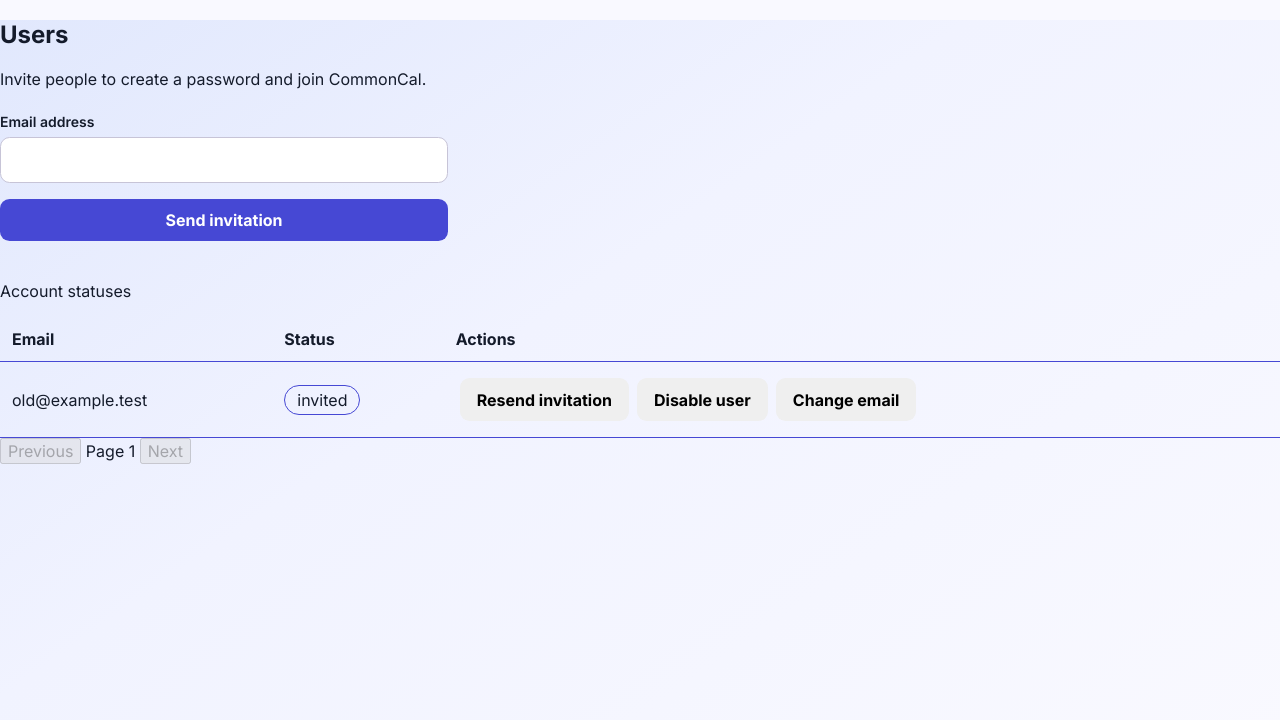
Test case: refreshes the changed invited address and offers resend after delivery failure
Click the button "Change email".
click(846, 400)  # box [776,378,916,421]
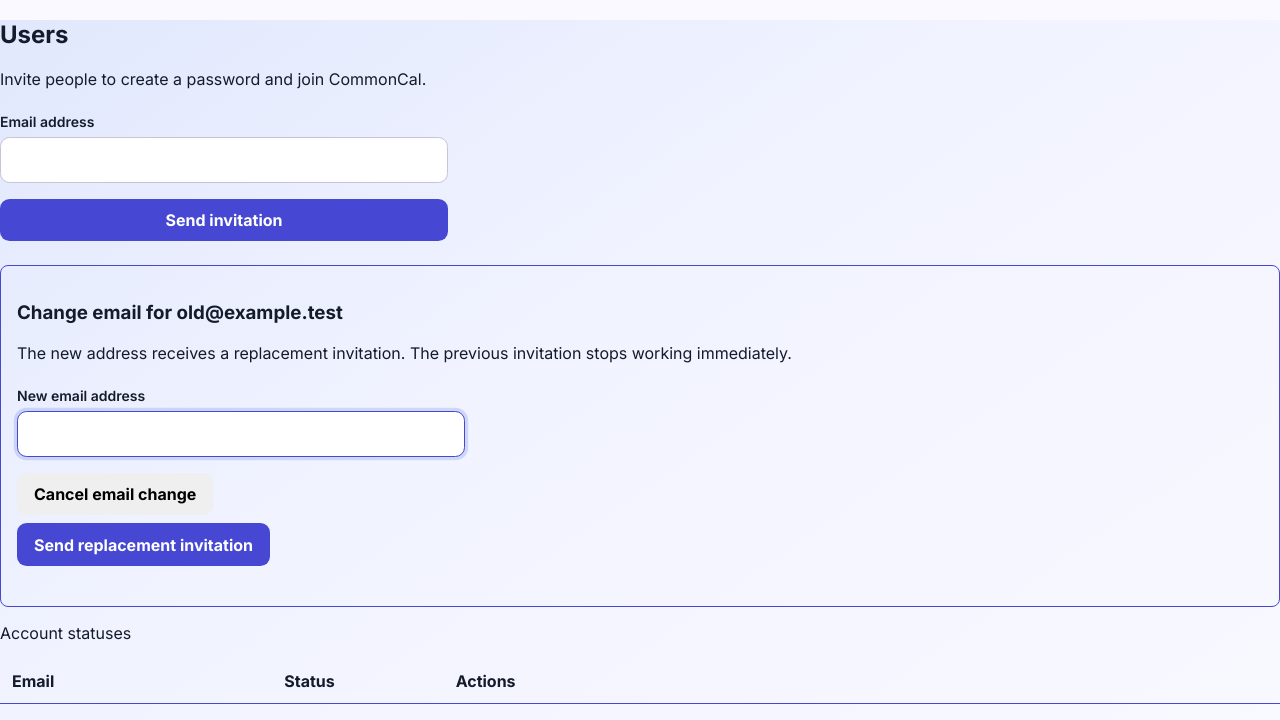
Type "new@example.test" into the field labelled "New email address".
click(241, 434); type("new@example.test")  # box [17,411,465,457]
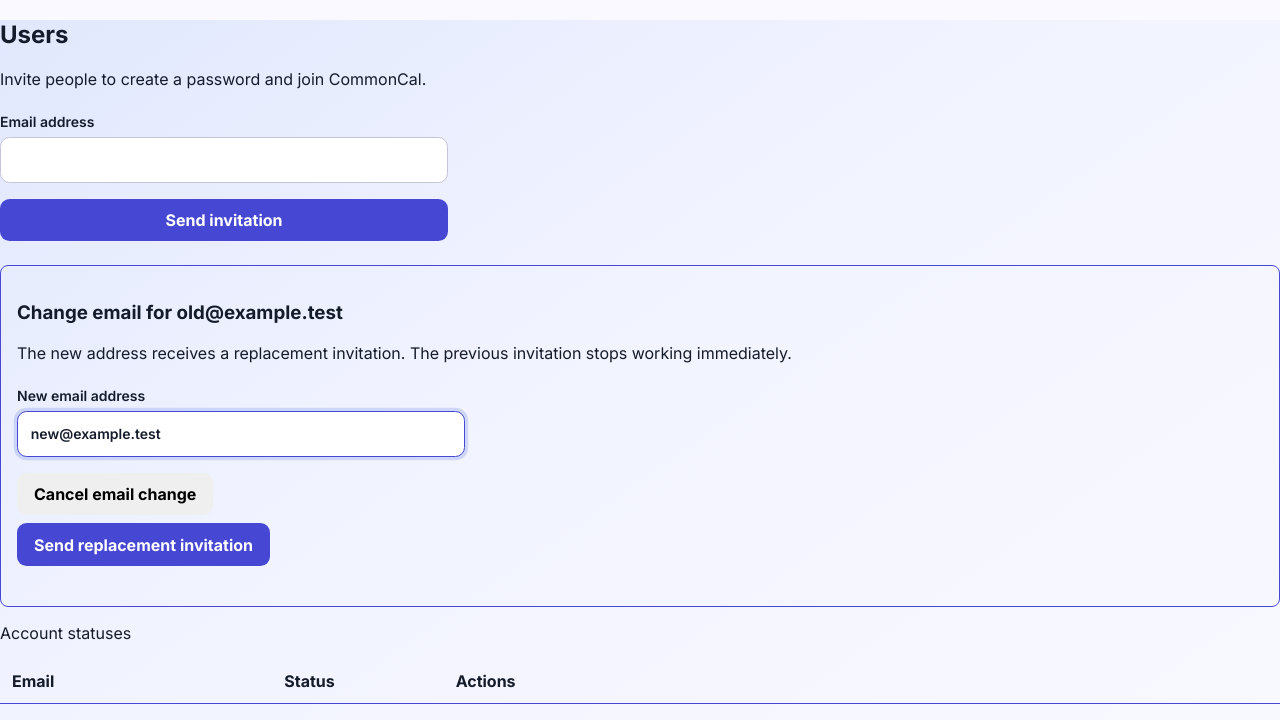
Click the button "Send replacement invitation".
click(144, 545)  # box [17,523,270,566]
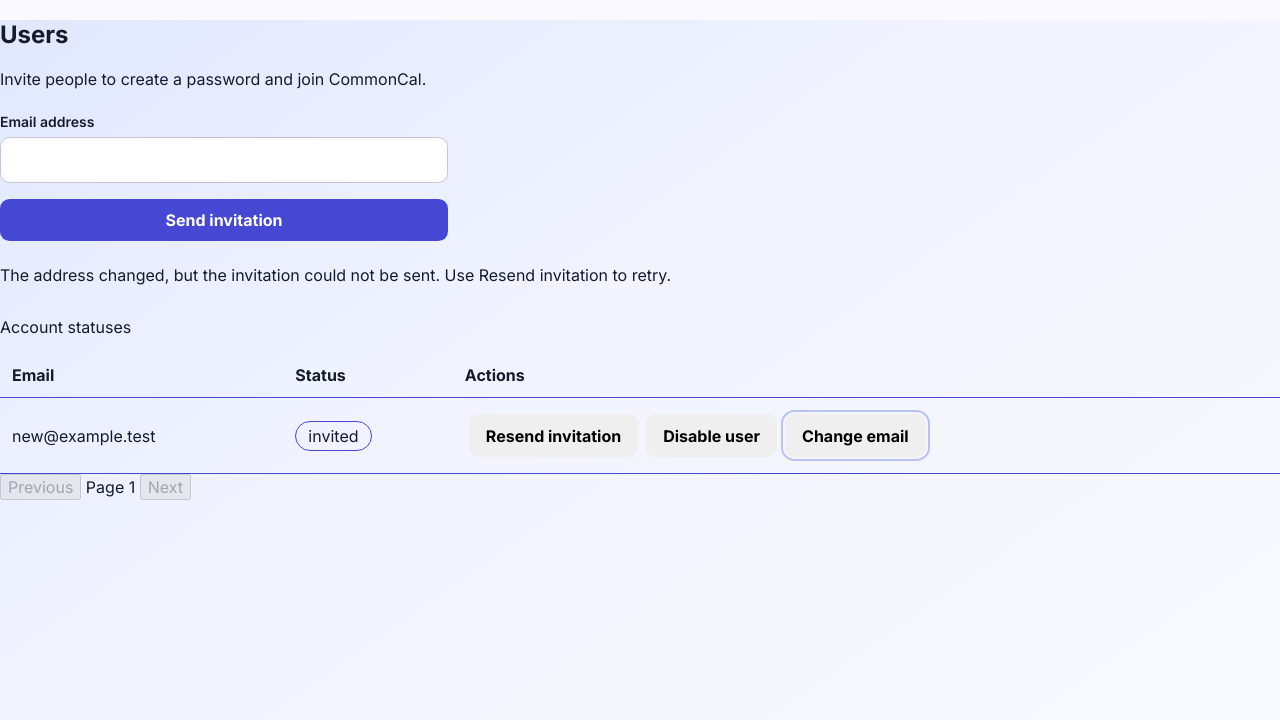
Now the message shows "Use Resend invitation to retry.", box [0,265,671,285]
Now the text "new@example.test" is shown, box [0,398,283,474]
Now the heading "old@example.test" is gone
